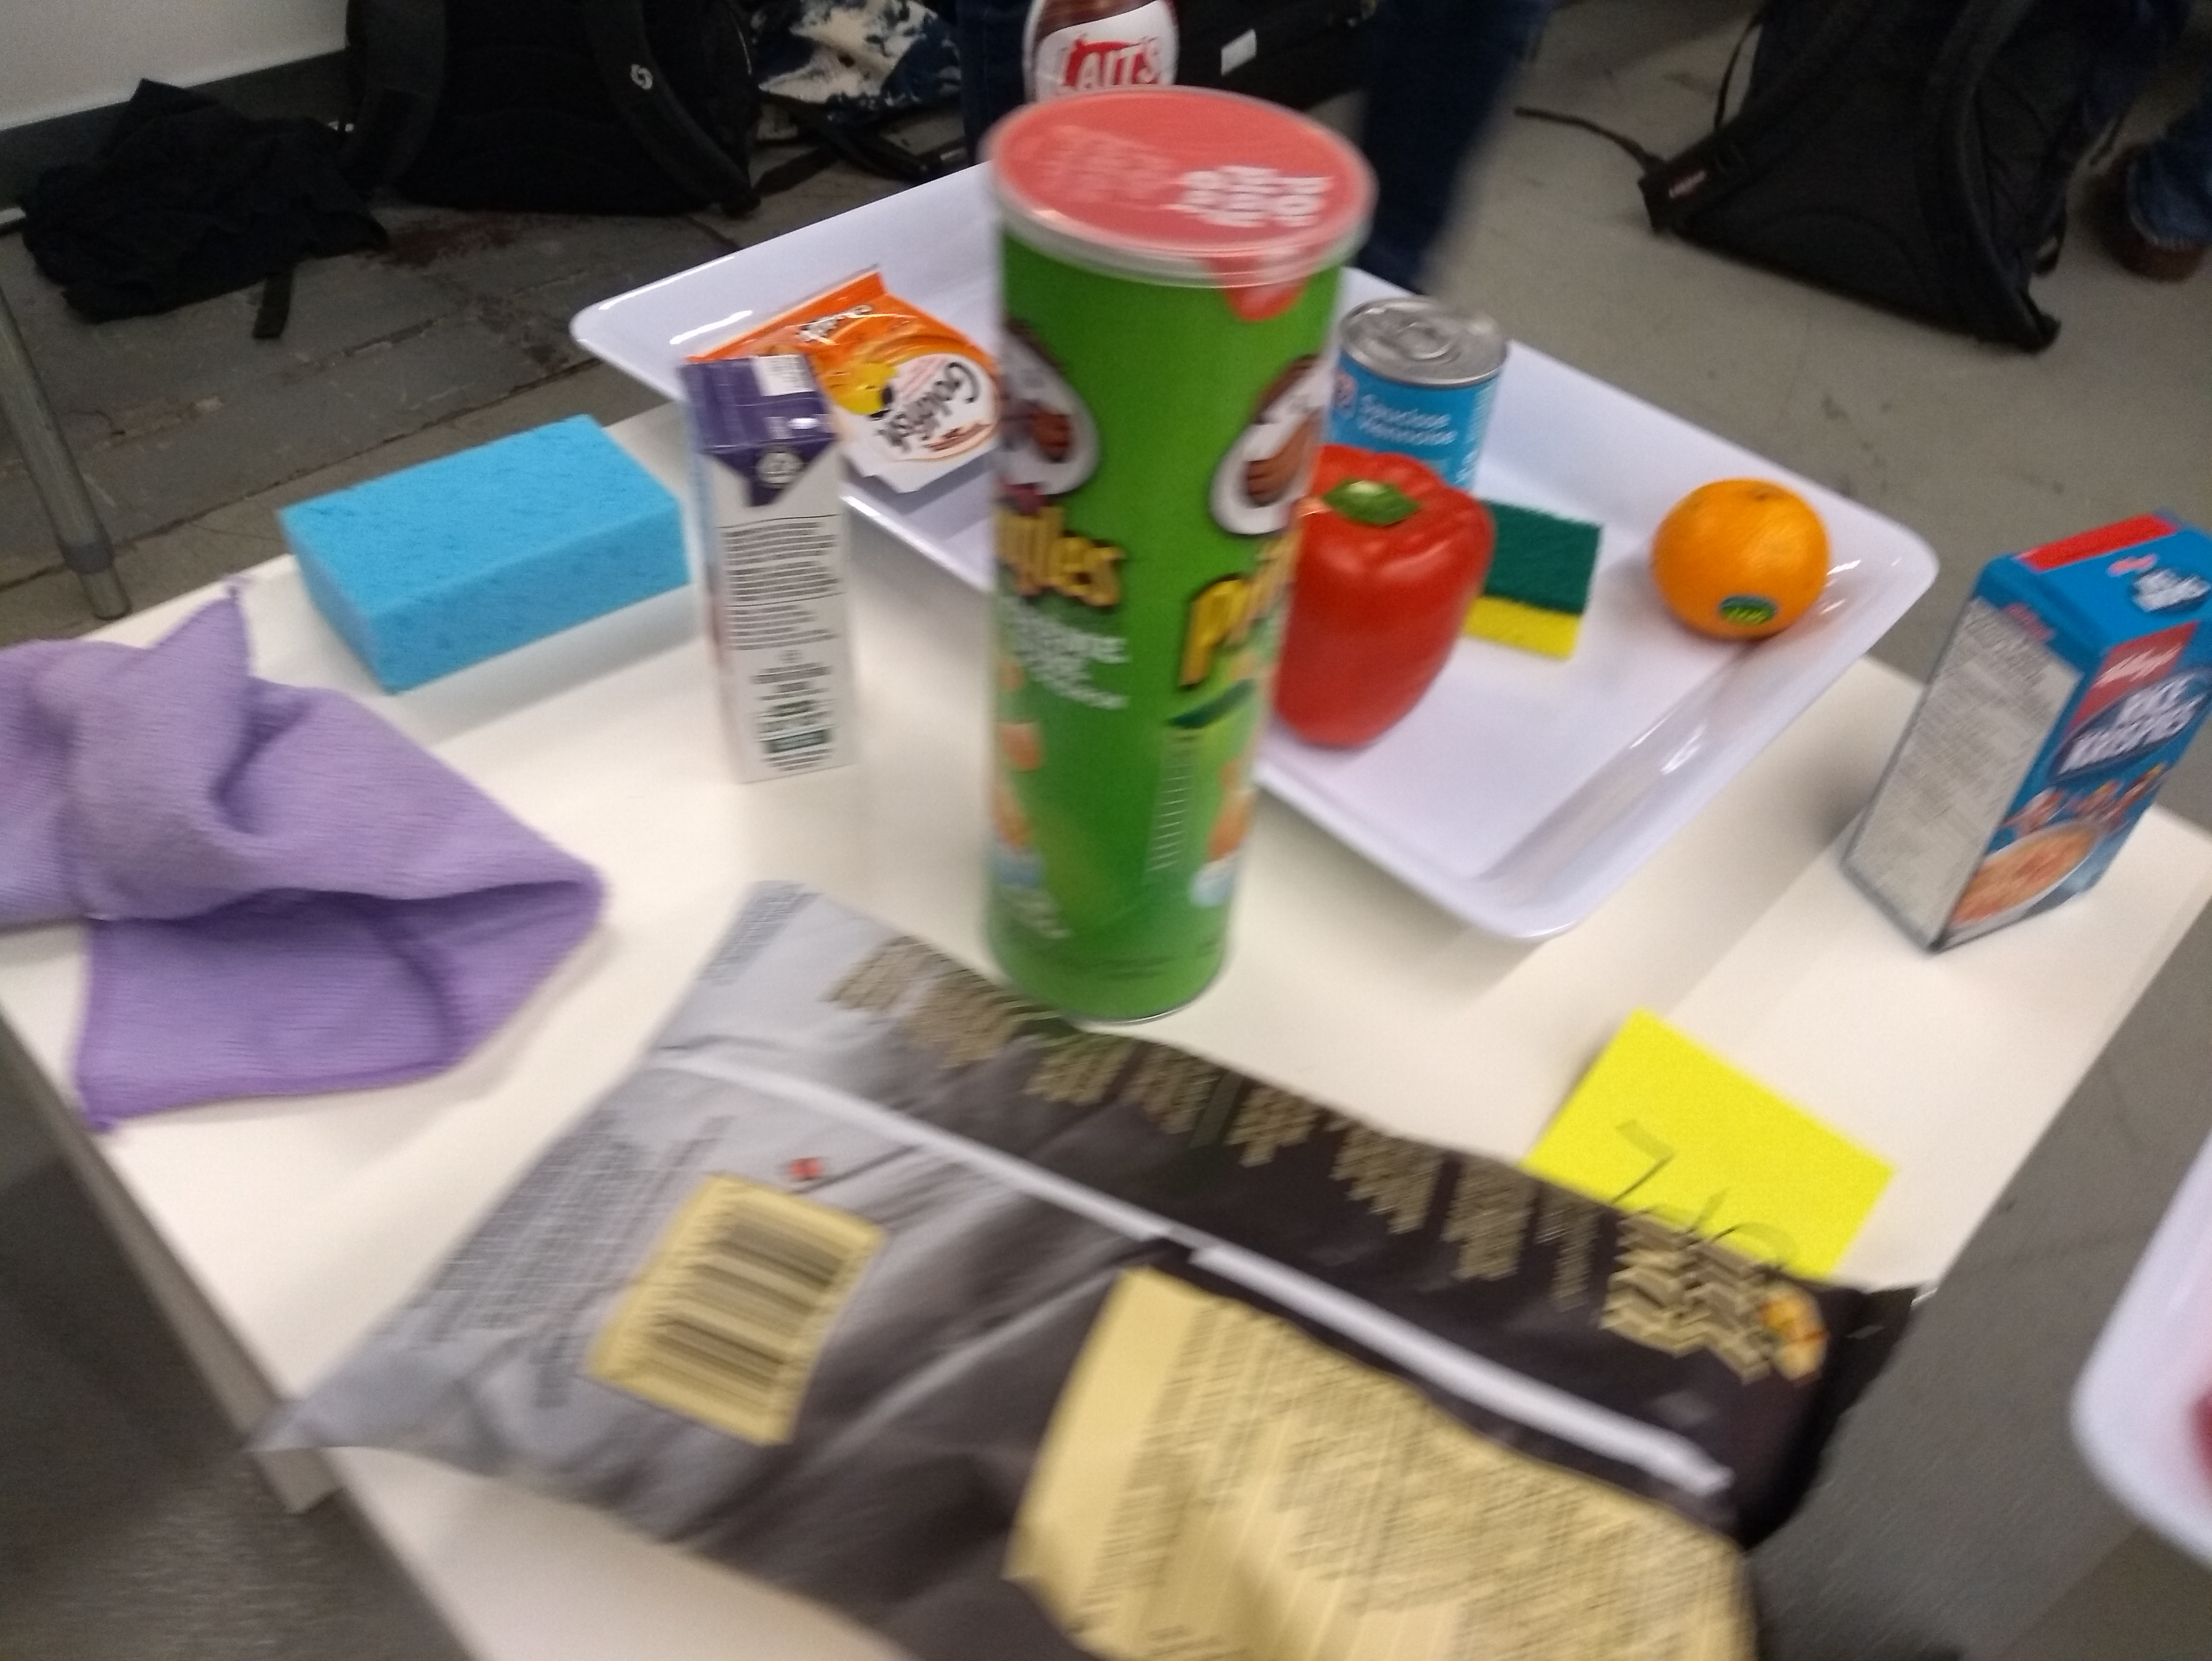cereal: (1844, 489, 2212, 949)
cloth_opl: (0, 612, 614, 1090)
crackers: (815, 272, 1001, 494)
grape_juice: (675, 352, 860, 792)
orange: (1643, 469, 1840, 660)
paprika: (1282, 426, 1490, 752)
potato_chips: (380, 907, 1858, 1658)
pringles: (966, 56, 1347, 1010)
sausages: (1329, 295, 1511, 482)
scrubby: (1460, 494, 1614, 672)
sponge_opl: (272, 412, 691, 663)
